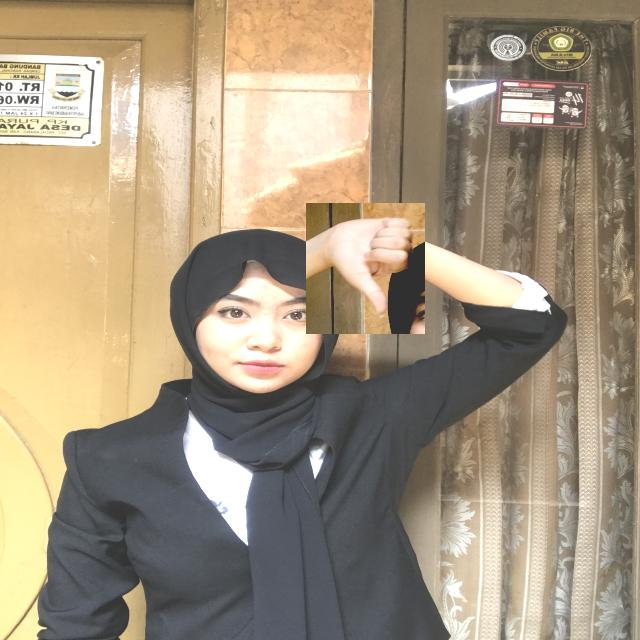sedih: (306, 203, 425, 334)
